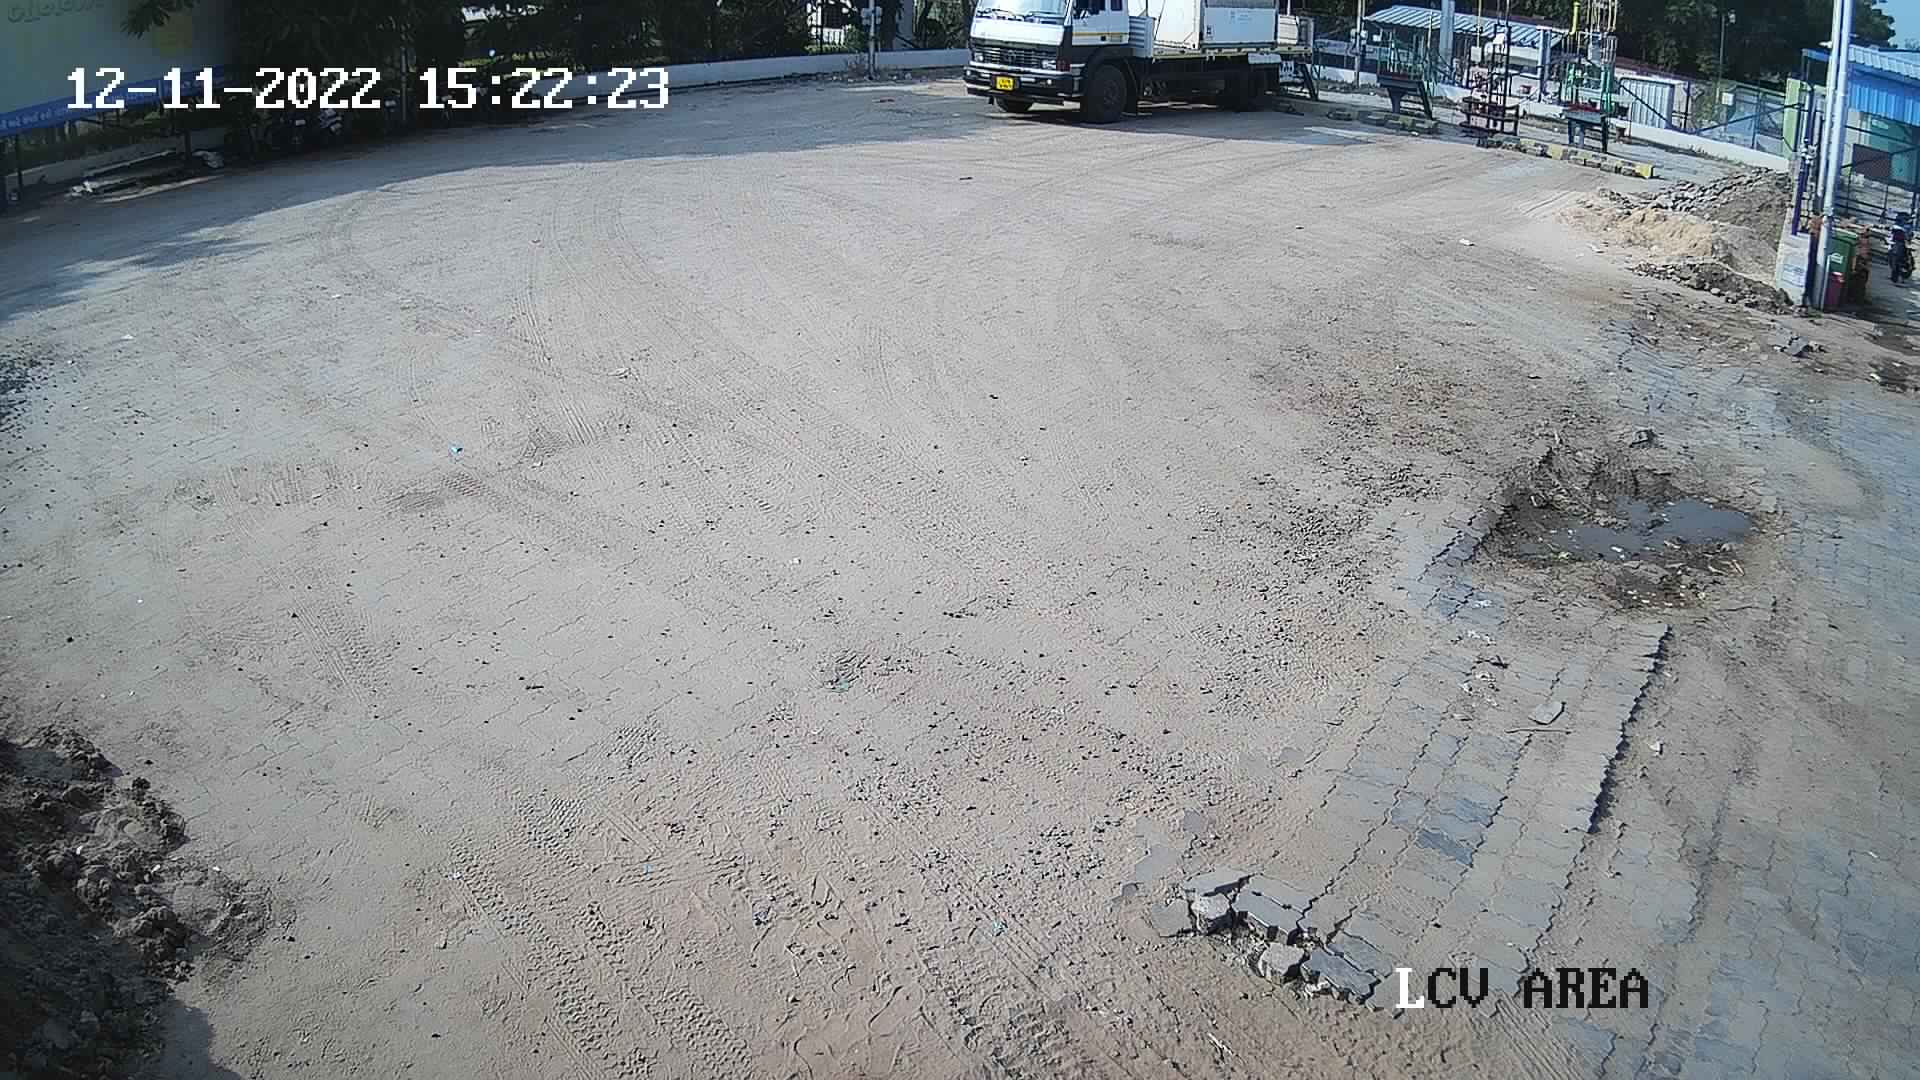Bike: (1870, 194, 1915, 297)
HMV: (945, 0, 1342, 131)
